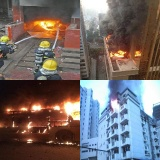fire: (62, 102, 80, 122), (34, 20, 60, 30), (47, 140, 79, 146), (109, 50, 125, 58), (31, 104, 45, 112), (110, 97, 118, 110), (51, 104, 61, 112), (47, 116, 51, 130), (38, 128, 47, 134), (134, 50, 141, 57), (105, 34, 112, 41), (19, 107, 28, 112), (28, 121, 33, 129), (12, 121, 17, 128), (27, 139, 33, 144), (21, 130, 28, 134), (7, 108, 12, 113)
